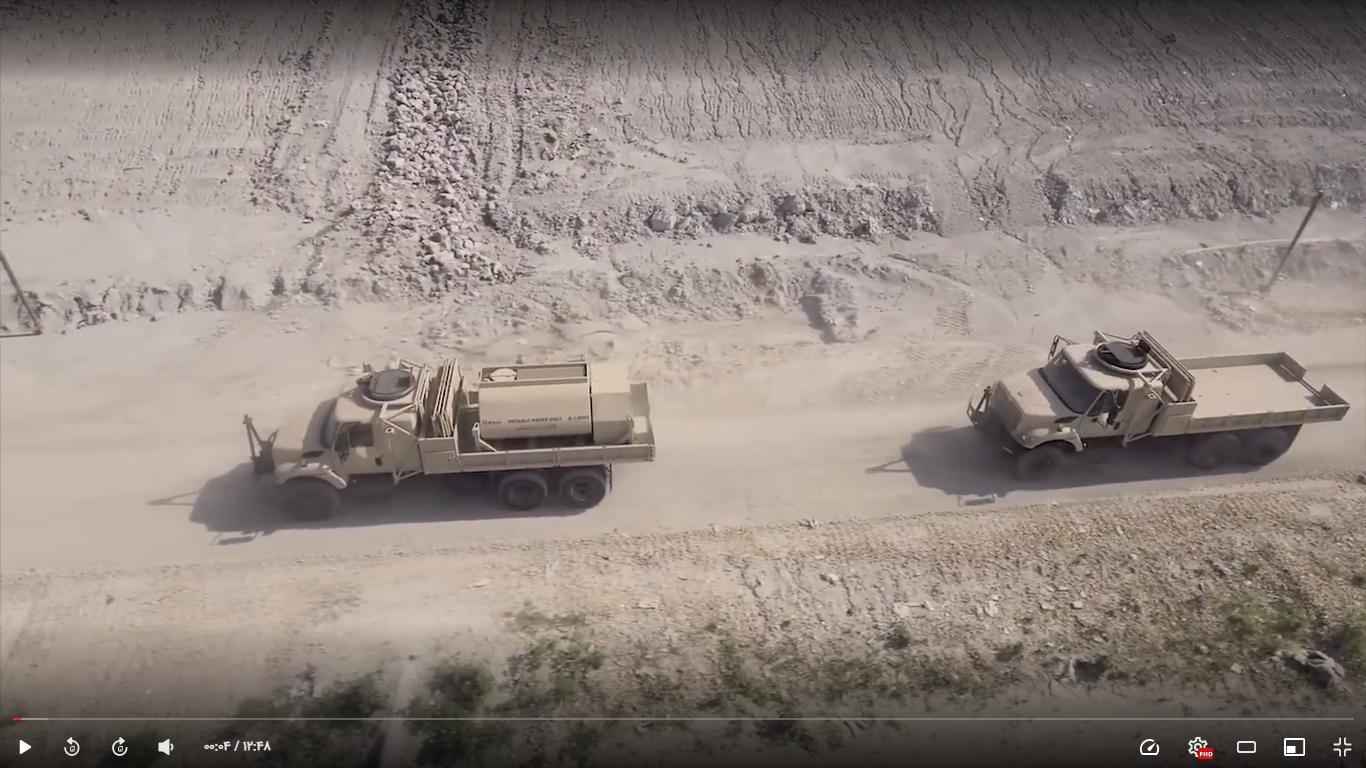truck: (227, 355, 658, 519), (964, 329, 1354, 479)
